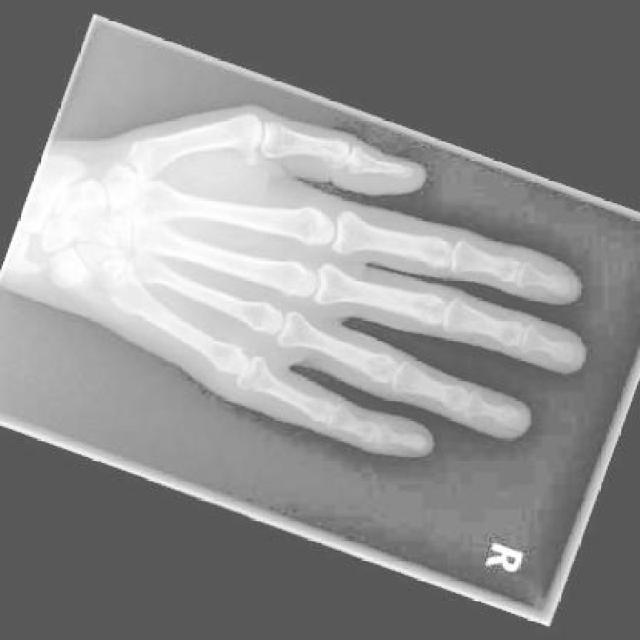Fracture: (316, 129, 356, 171)
